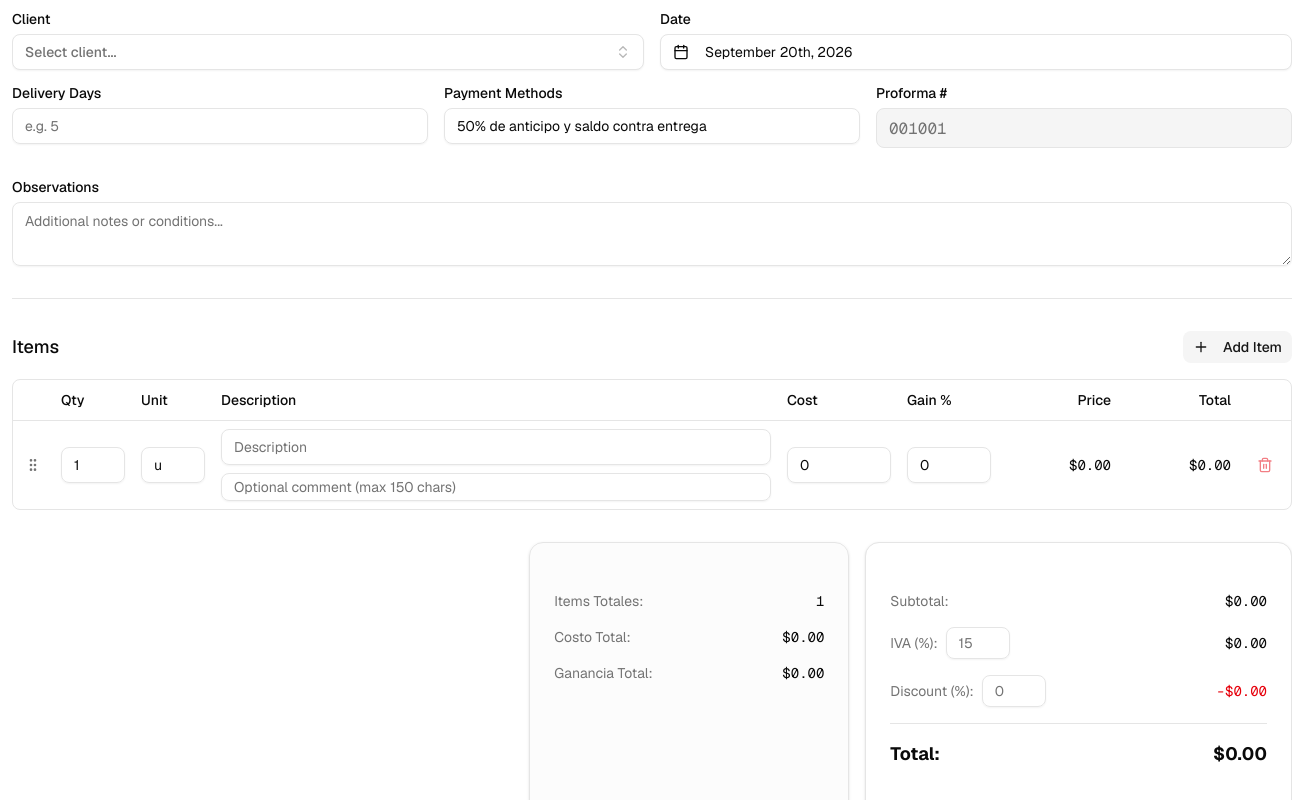
Test: ProformaForm › allows adding and removing items
// Add Item
Click the button "Add Item" at (1238, 347), box [1183,331,1292,363]
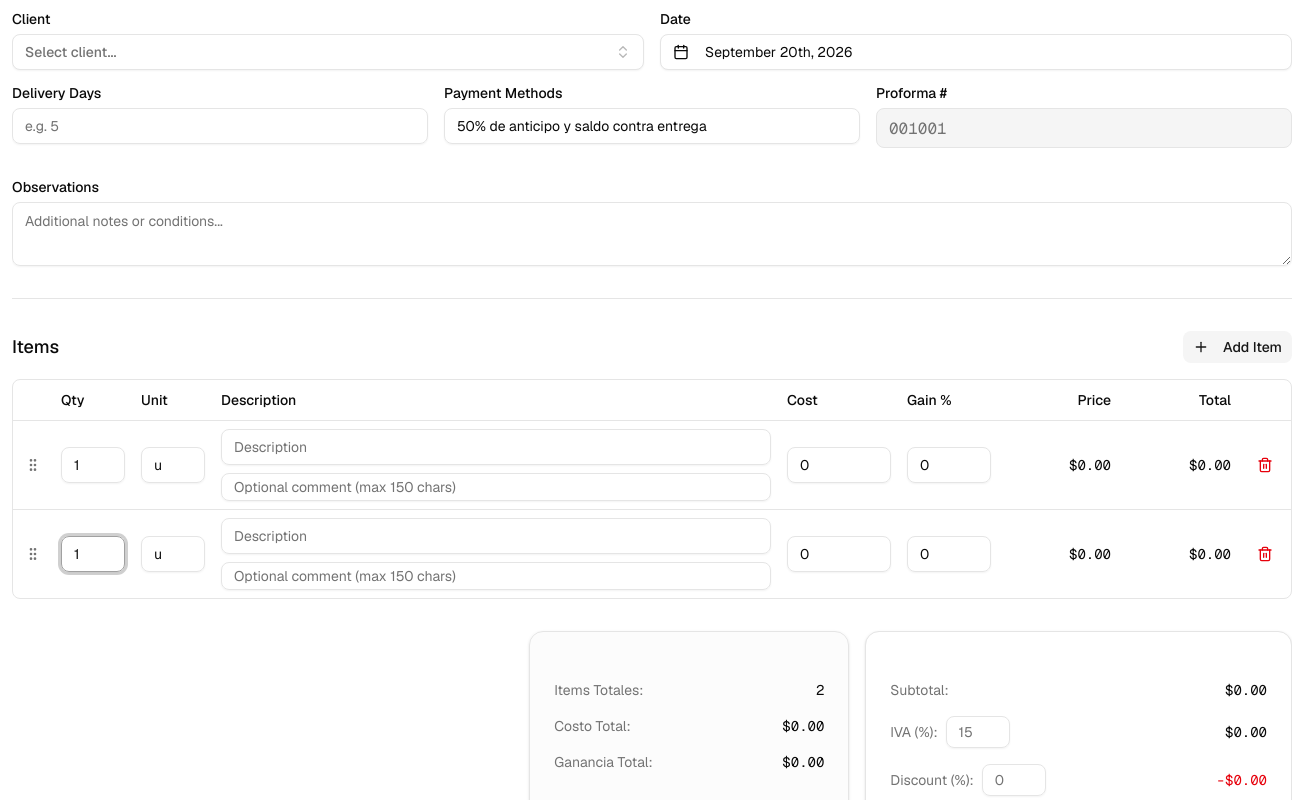
Check: the number of rows is 3, box [13,380,1291,420]; [13,420,1291,509]; [13,509,1291,598]
// Remove the second item
Click the 4th button at (1265, 554), box [1247,536,1283,572]
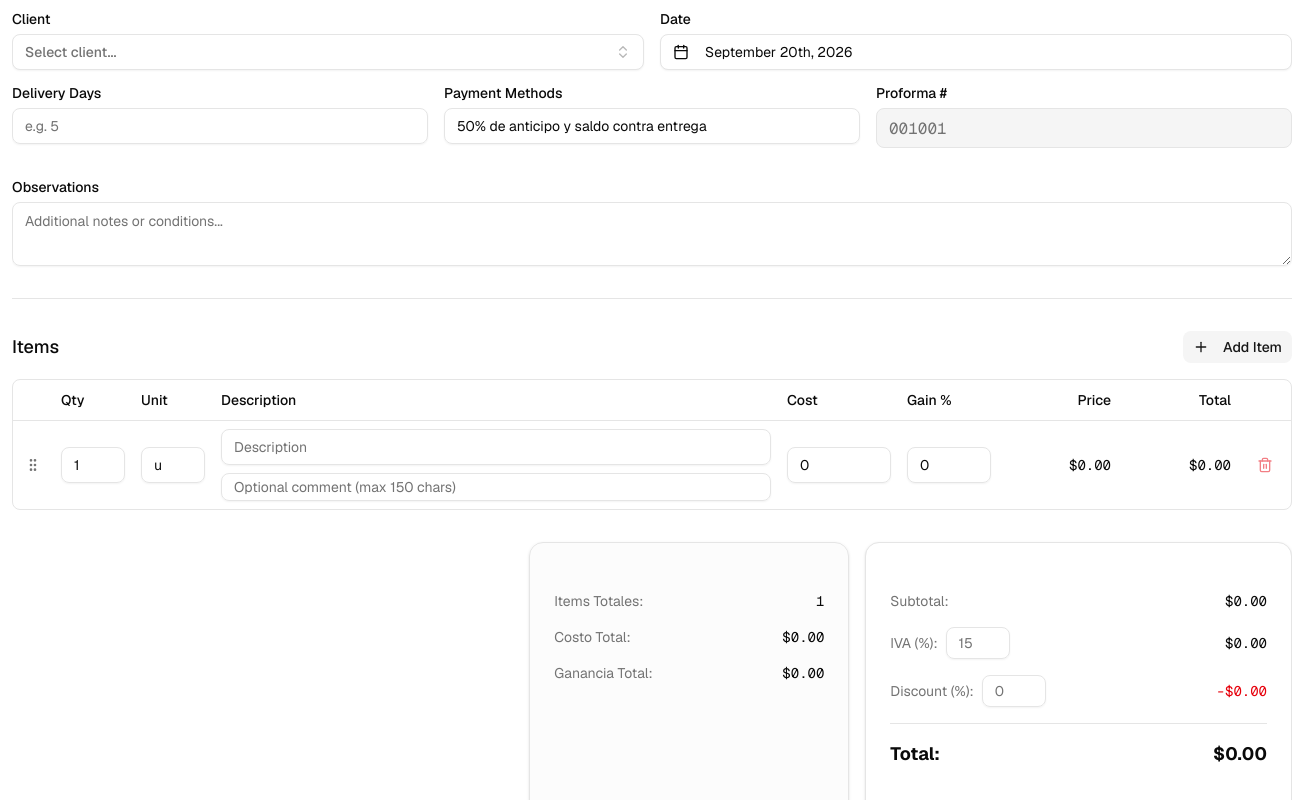
Check: the number of rows is 2, box [13,380,1291,420]; [13,420,1291,508]
